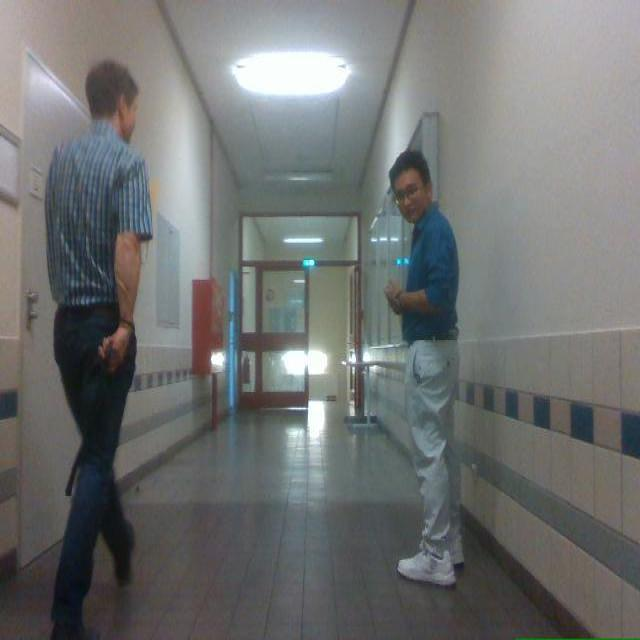humans: (45, 62, 151, 639), (385, 151, 463, 585)
